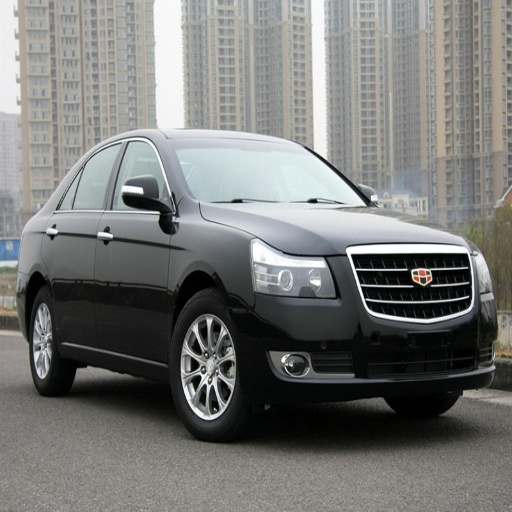front_bumper: (242, 244, 494, 386)
front_right_door: (97, 137, 173, 358)
front_right_light: (251, 239, 338, 296)
